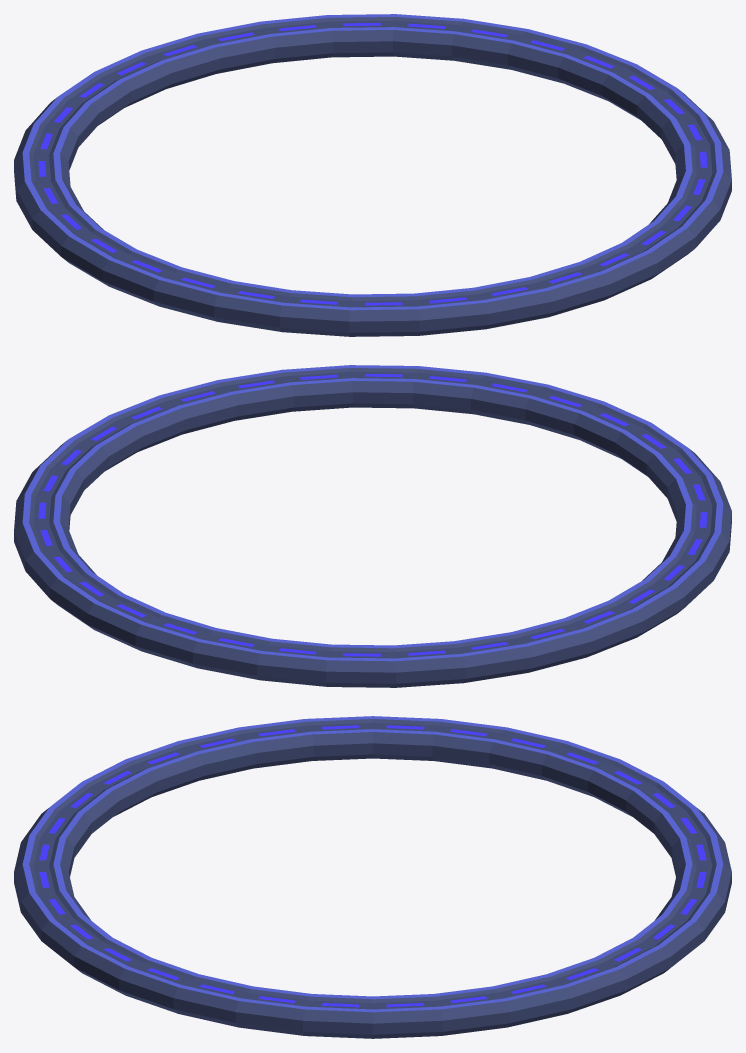
File: purple_market.glb
The picture shows the model from 3 angles, top to bottom: view 1: azimuth 30°, elevation 25°; view 2: azimuth 150°, elevation 25°; view 3: azimuth 270°, elevation 25°; orthographic projection.
Visible parts, largest first — view 1: Circle.001; view 2: Circle.001; view 3: Circle.001.
Boxes of the visible parts, left/top/right/bottom form: Circle.001: left=14, top=14, right=731, bottom=336; Circle.001: left=14, top=365, right=731, bottom=687; Circle.001: left=14, top=716, right=731, bottom=1038.
Size of the model in its own units: 1.27 by 0.0519 by 1.27.
